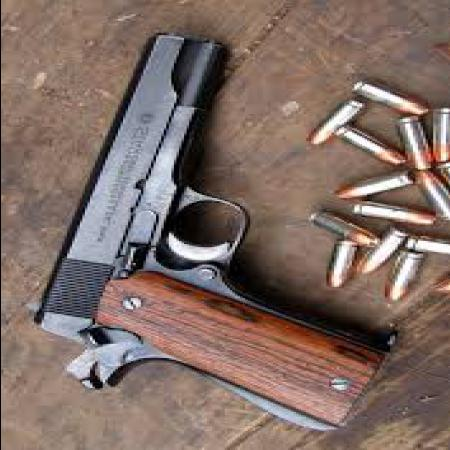Pistol: (13, 21, 368, 436)
